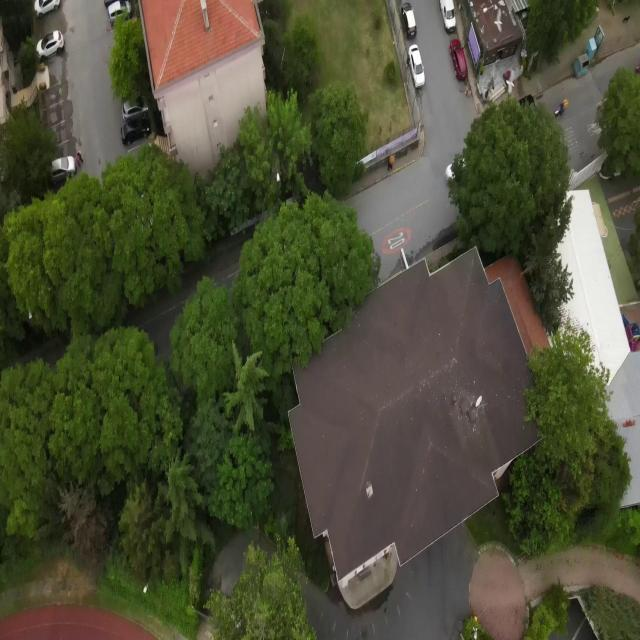p3rson: (386, 153, 395, 175), (78, 150, 84, 165), (76, 156, 81, 168)
